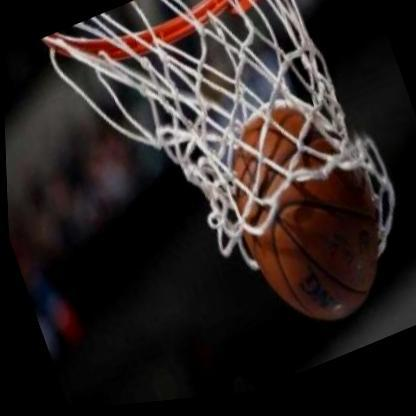basketball: (200, 79, 407, 361)
